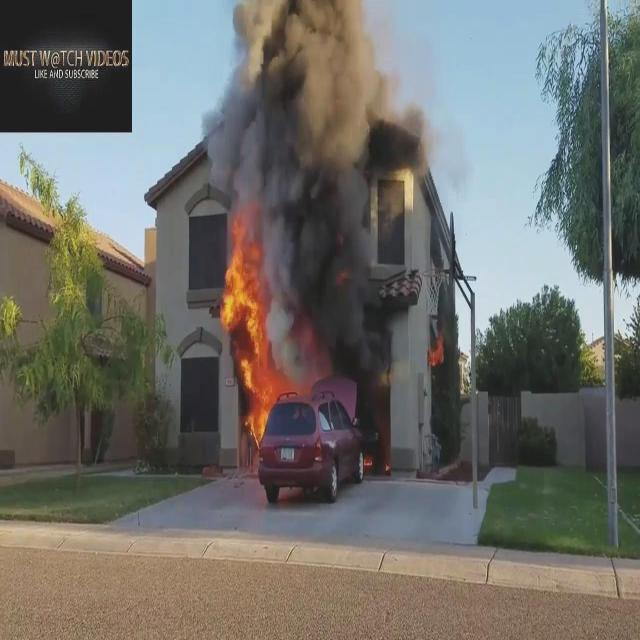Fire: (219, 208, 309, 452), (428, 326, 444, 364), (364, 454, 374, 467)
